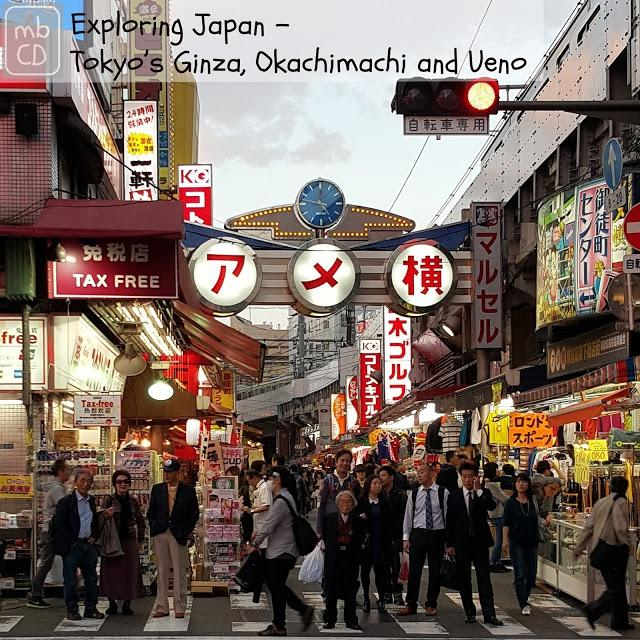body: (219, 446, 526, 500), (244, 465, 316, 637), (439, 460, 507, 629), (570, 472, 639, 635), (46, 465, 107, 623), (394, 459, 454, 618), (144, 456, 201, 619), (92, 467, 147, 619), (315, 488, 370, 634), (499, 471, 553, 617), (25, 455, 75, 610), (354, 474, 393, 615), (374, 464, 409, 606), (315, 448, 362, 540), (531, 458, 569, 557), (481, 461, 513, 574), (239, 468, 275, 554), (240, 469, 272, 560), (264, 452, 299, 501), (434, 449, 463, 494), (531, 473, 563, 509), (294, 467, 310, 520), (224, 464, 241, 483)
